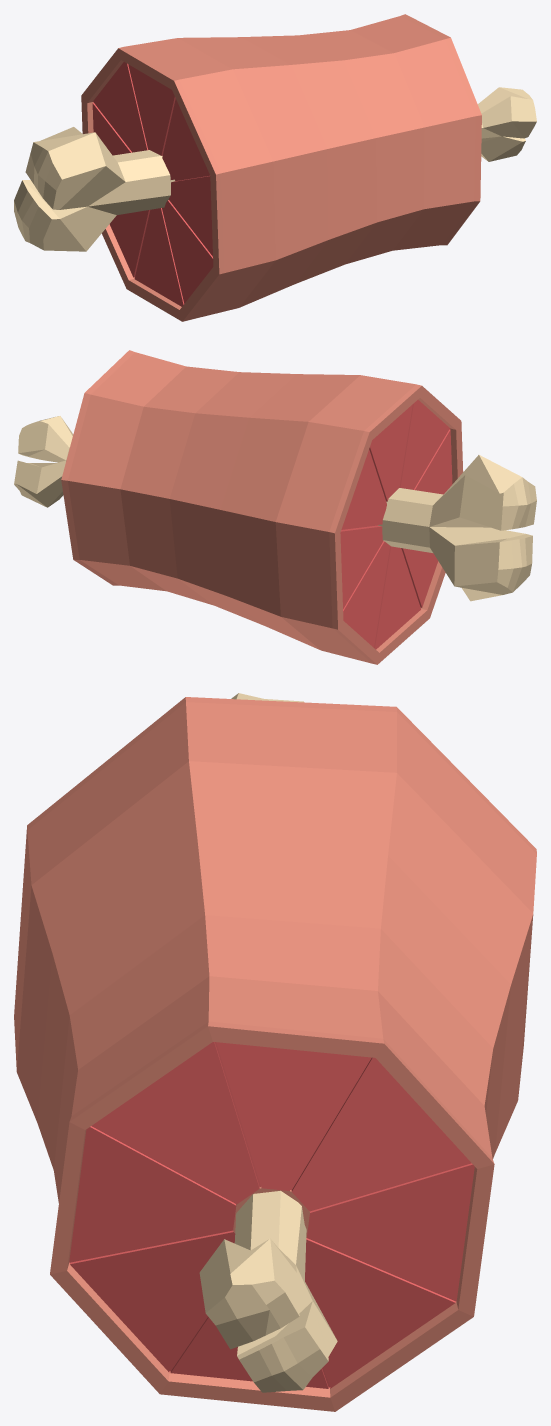
Rendered from meet1.fbx.
3 renders of one model, top to bottom at view 1: azimuth 30°, elevation 25°; view 2: azimuth 150°, elevation 25°; view 3: azimuth 270°, elevation 25°, orthographic. The views are drawn at different scales.
Parts seen in each view (by area): view 1: Plane.024; view 2: Plane.024; view 3: Plane.024.
Boxes of the visible parts, bbox=[...] form: Plane.024: bbox=[14, 14, 536, 321]; Plane.024: bbox=[14, 350, 536, 664]; Plane.024: bbox=[14, 693, 536, 1411].
Bounding box in the file's own units: 0.2682 × 0.1239 × 0.1237.
